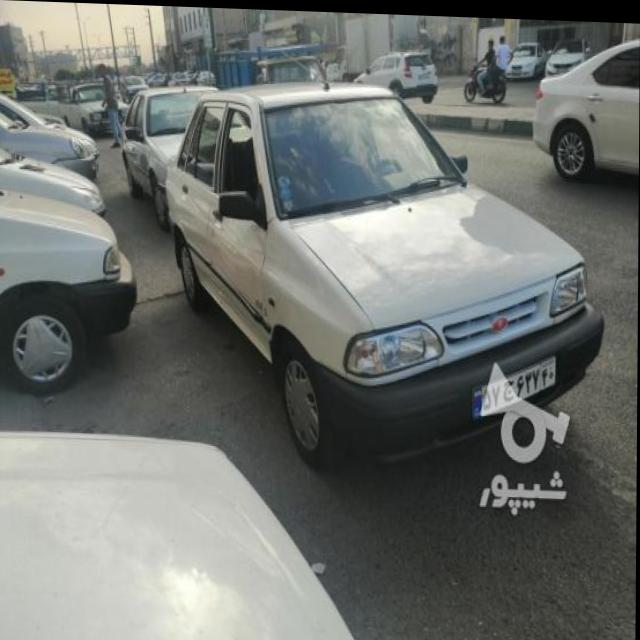licence: (473, 344, 558, 417)
